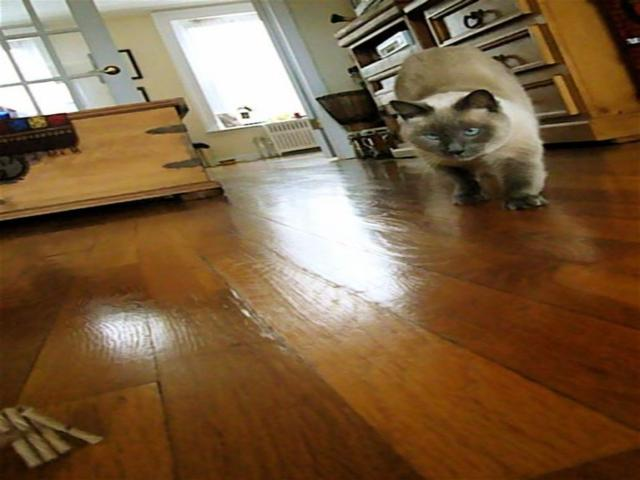Cat: (399, 45, 541, 210)
